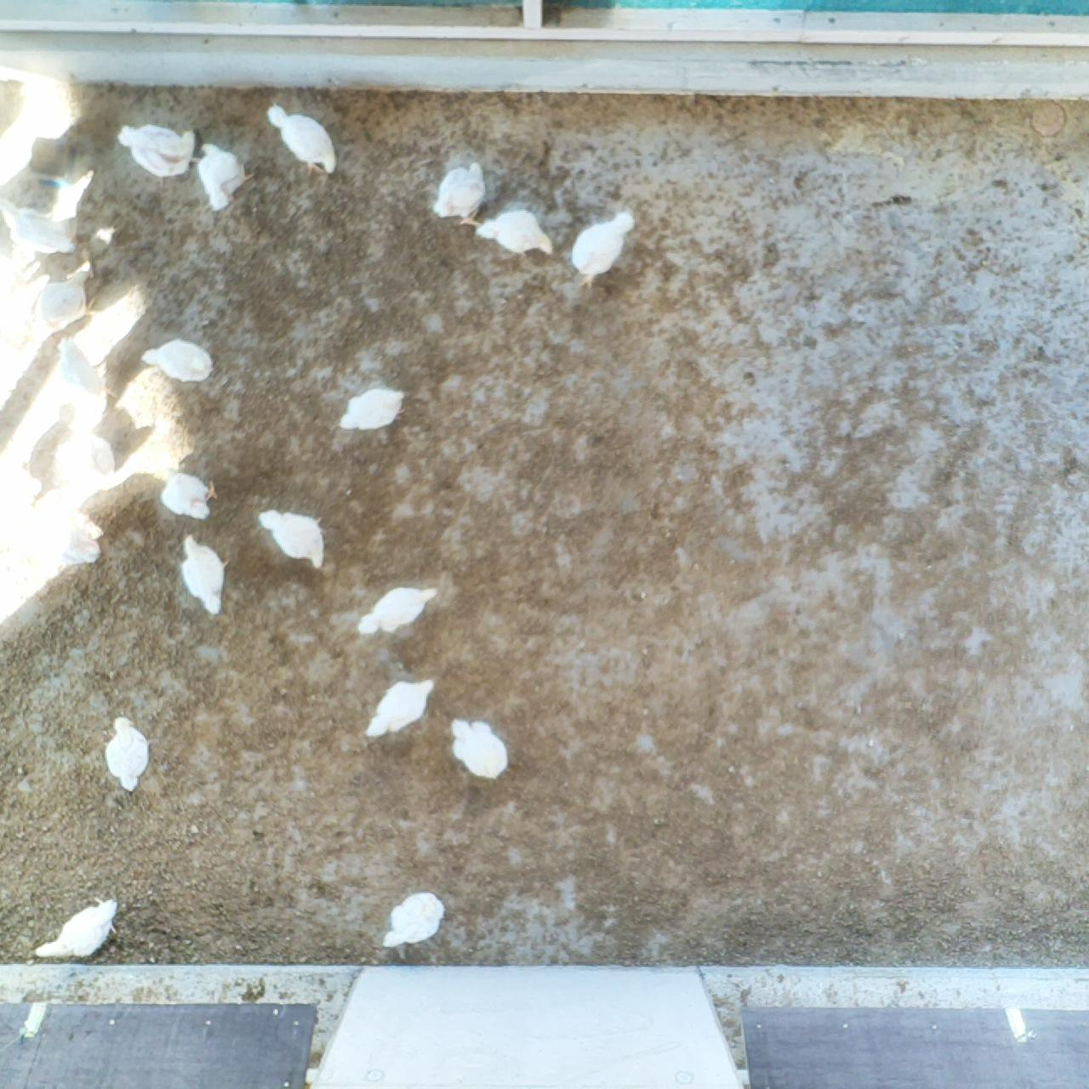chicken: (34, 894, 122, 961), (266, 104, 341, 180), (567, 210, 639, 289), (255, 503, 331, 570), (363, 676, 439, 740), (355, 581, 437, 639), (115, 121, 197, 177), (2, 197, 76, 256), (181, 533, 230, 619), (430, 159, 492, 225), (449, 715, 510, 782), (380, 889, 449, 948), (198, 142, 254, 212), (34, 268, 96, 331), (103, 716, 151, 793), (477, 208, 554, 256), (33, 516, 103, 568), (140, 338, 215, 383), (54, 430, 119, 481), (159, 465, 219, 519), (54, 336, 106, 397), (341, 386, 406, 433)
